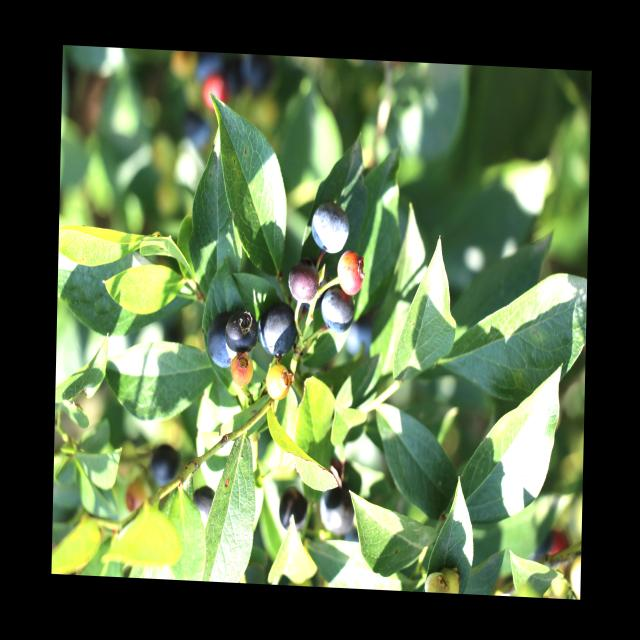blueberry: (310, 204, 352, 258), (259, 302, 298, 356), (205, 310, 238, 369), (318, 483, 354, 535), (223, 306, 261, 354), (320, 290, 356, 334), (148, 444, 181, 484), (278, 490, 309, 530), (192, 485, 218, 528)
blueberry-halfripe: (337, 251, 362, 296)
blueberry-unripe: (265, 362, 292, 399), (231, 353, 255, 388)
